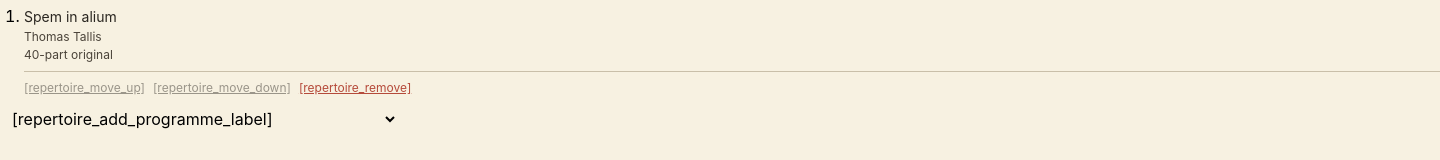
Scenario: #272 — "Add to programme" link visibility follows the selection › selecting an edition makes the button APPEAR — enabled, not merely un-disabled
Select "Spem in alium - Thomas Tallis — 40-part original" in the dropdown with test id "work-manage-add-programme-select" at (203, 119), box [8,108,398,130]
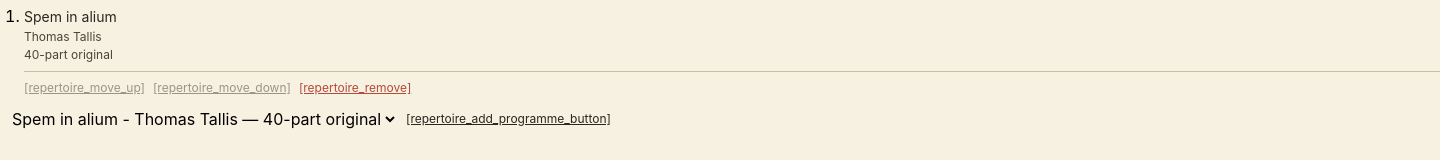
Expected: the button with test id "work-manage-add-programme-button" is enabled, [406,111,611,127]
